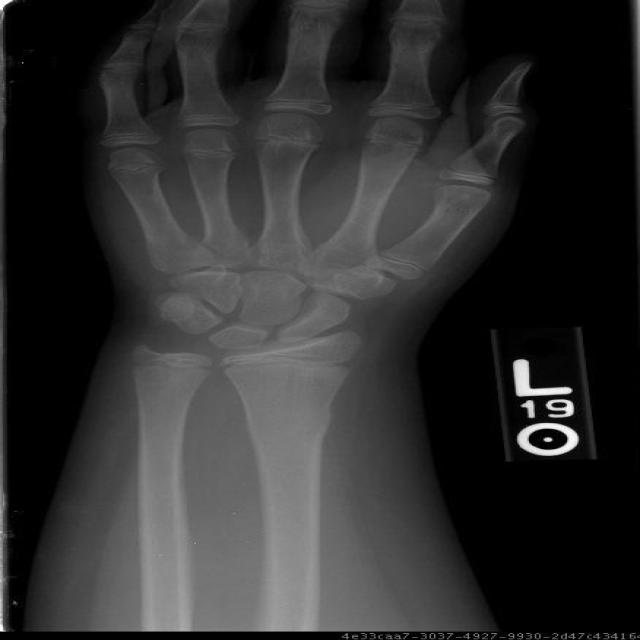fracture: (336, 240, 494, 321)
